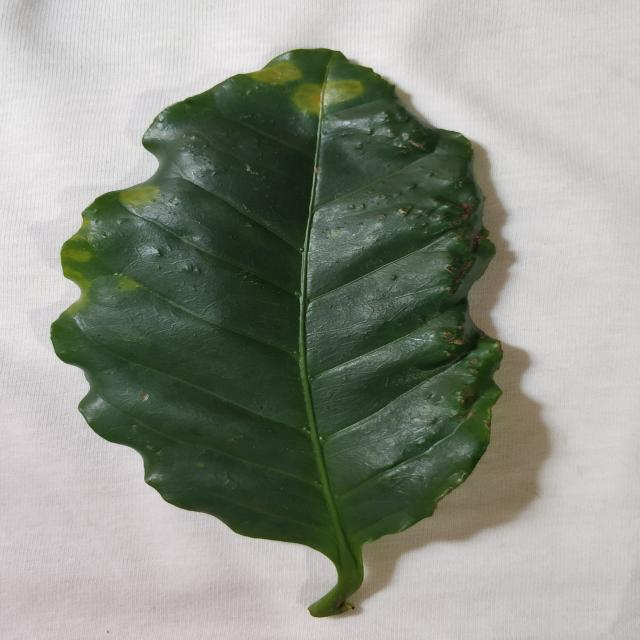Enfermedad-Roya: (48, 48, 507, 620)
